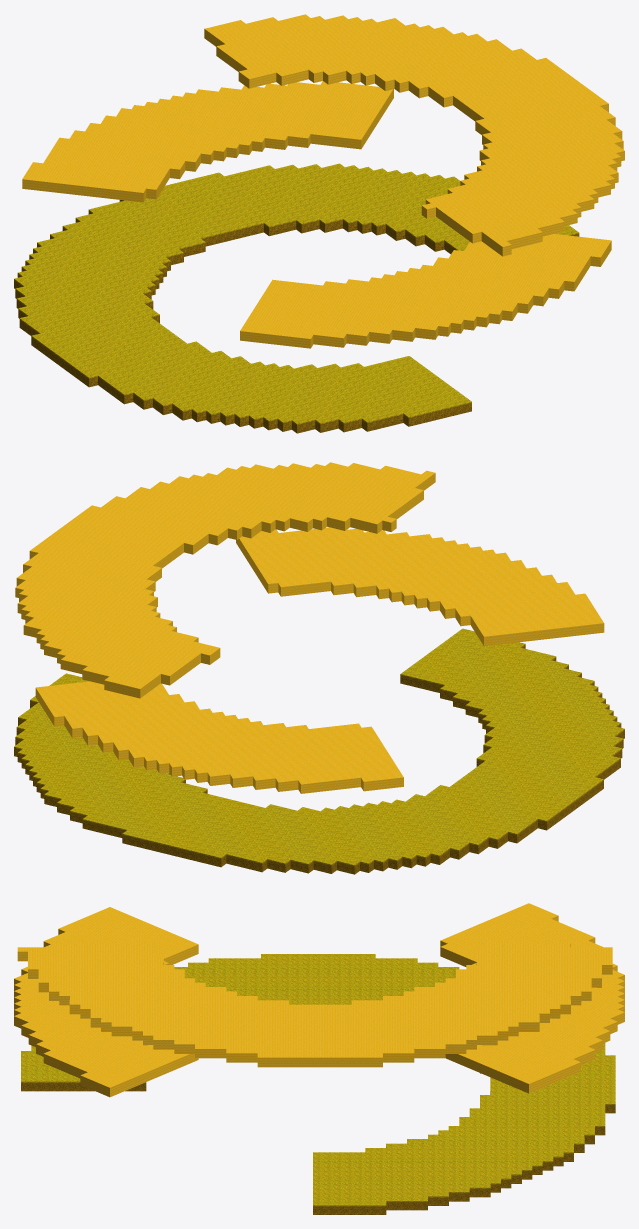
Rendered from stage6_cover.fbx.
3 views of the same model, one above another, from view 1: azimuth 30°, elevation 25°; view 2: azimuth 150°, elevation 25°; view 3: azimuth 270°, elevation 25° (orthographic).
Parts seen in each view (by area): view 1: stage_1nd, stage_2nd_1 (×2), stage_3nd_1; view 2: stage_1nd, stage_2nd_1 (×2), stage_3nd_1; view 3: stage_3nd_1, stage_1nd, stage_2nd_1 (×2).
Boxes of the visible parts, box(x1,y1,x2,y2) form: stage_1nd: box(14, 163, 579, 433); stage_2nd_1 (×2): box(22, 81, 611, 348); stage_3nd_1: box(204, 14, 624, 256); stage_1nd: box(14, 628, 624, 874); stage_2nd_1 (×2): box(35, 527, 604, 793); stage_3nd_1: box(15, 462, 435, 698); stage_3nd_1: box(17, 938, 612, 1067); stage_1nd: box(21, 954, 615, 1214); stage_2nd_1 (×2): box(14, 903, 624, 1097).
Bounding box in the file's own units: 5664 × 1654 × 5796.
